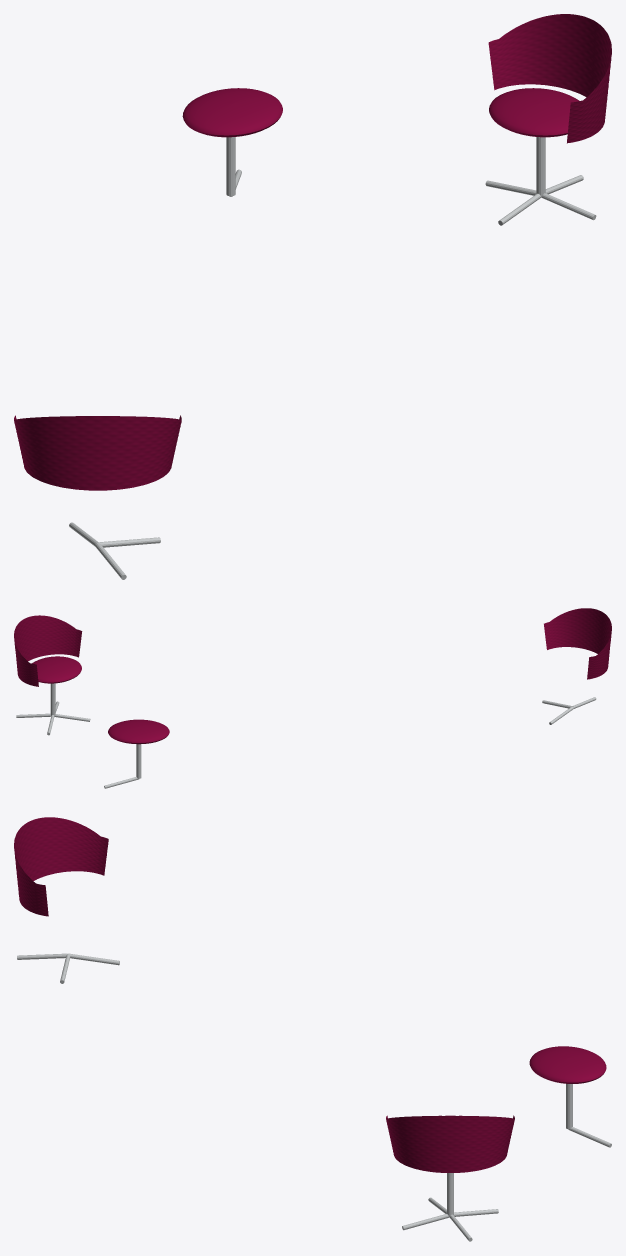
Rendered from SM_L5_Furniture_Solid_b53db42c9d_1.fbx.
3 renders of one model, top to bottom at view 1: azimuth 30°, elevation 25°; view 2: azimuth 150°, elevation 25°; view 3: azimuth 270°, elevation 25°, orthographic. The views are drawn at different scales.
Parts seen in each view (by area): view 1: SM_L5_Furniture_Solid_b53db42c9d_1; view 2: SM_L5_Furniture_Solid_b53db42c9d_1; view 3: SM_L5_Furniture_Solid_b53db42c9d_1.
Part boxes in pixels (<box>): SM_L5_Furniture_Solid_b53db42c9d_1: <box>14,14,611,579</box>; SM_L5_Furniture_Solid_b53db42c9d_1: <box>14,608,611,788</box>; SM_L5_Furniture_Solid_b53db42c9d_1: <box>14,817,611,1241</box>.
Bounding box in the file's own units: 4.22 × 3.48 × 0.8179.
